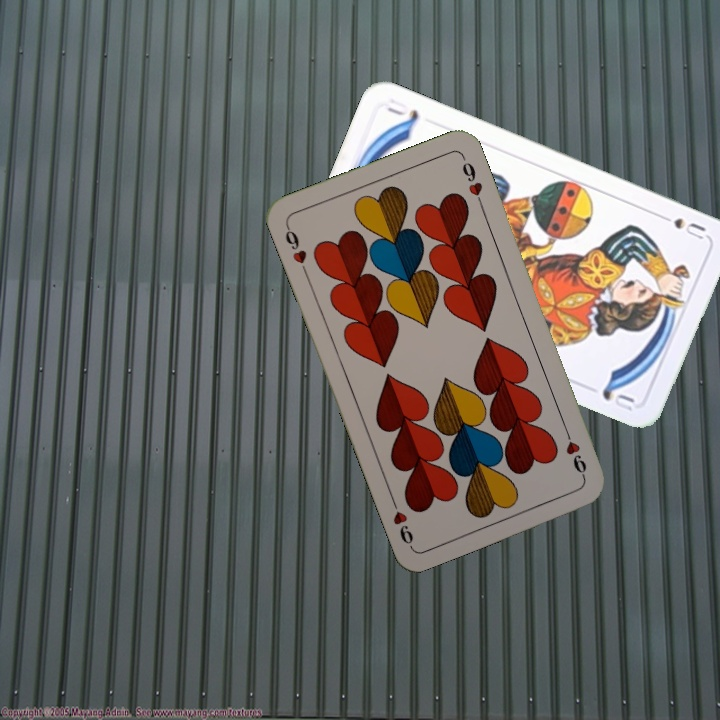H9: (281, 221, 310, 278), (560, 424, 589, 481)
SU: (653, 210, 708, 242)
